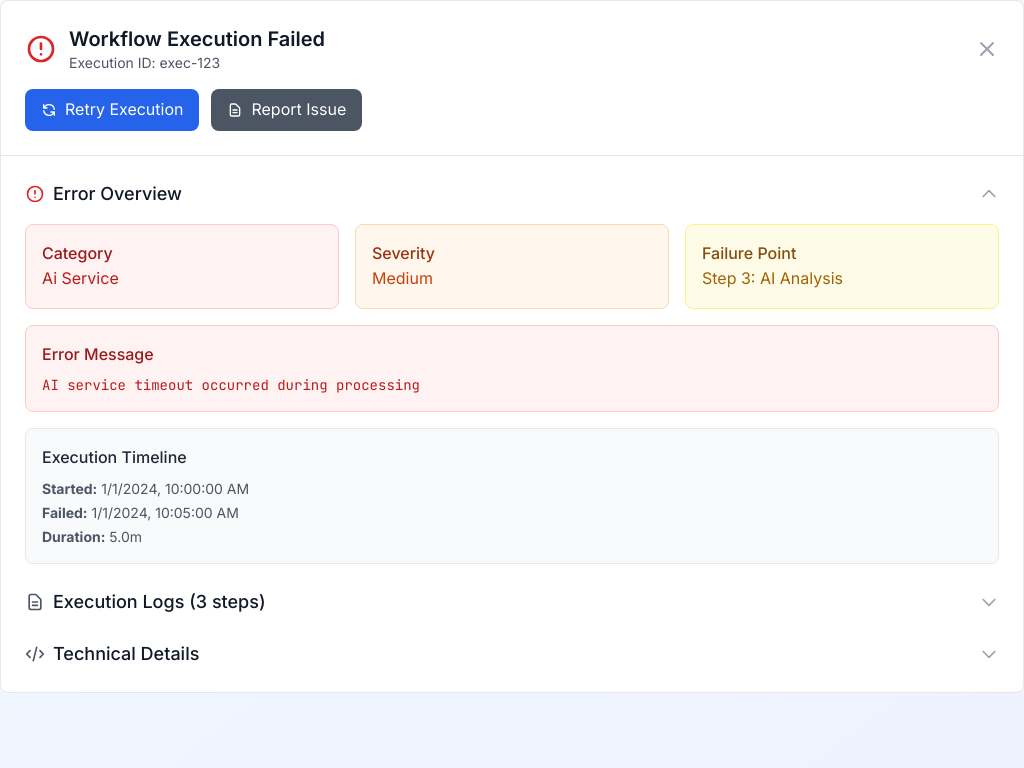
Test: WorkflowErrorDisplay › displays execution logs when available
Expected: the heading "Execution Logs (3 steps)" is shown, [25, 588, 266, 616]
# Expand logs section
Click the button "Execution Logs (3 steps)".
click(124, 601)  # box [25, 588, 999, 616]
(page scrolled)
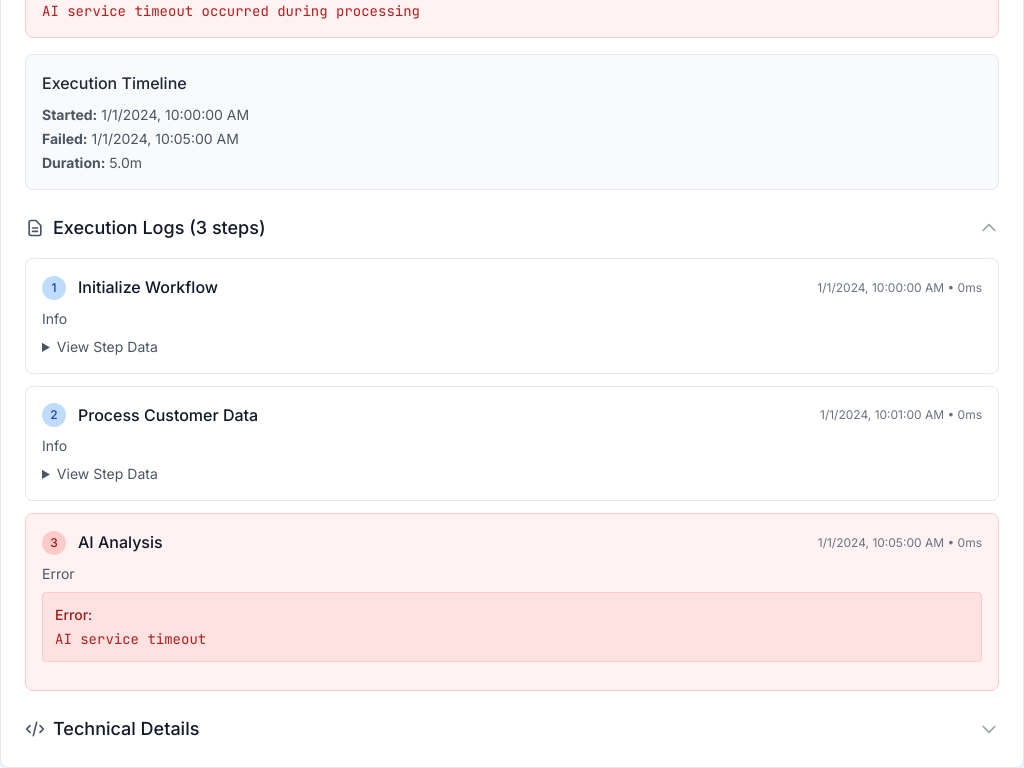
Result: the heading "Initialize Workflow" is shown at [78, 275, 218, 301]
Result: the heading "Process Customer Data" is shown at [78, 403, 258, 428]
Result: the heading "AI Analysis" is shown at [78, 530, 163, 556]
